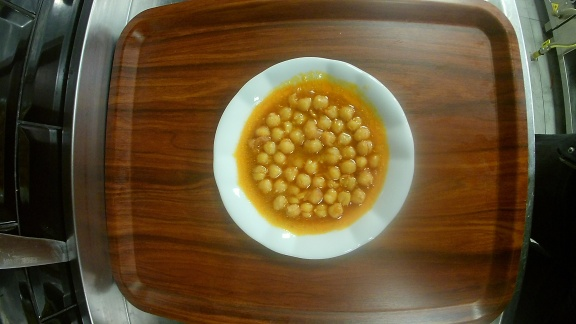sulunohut: (211, 57, 414, 260)
